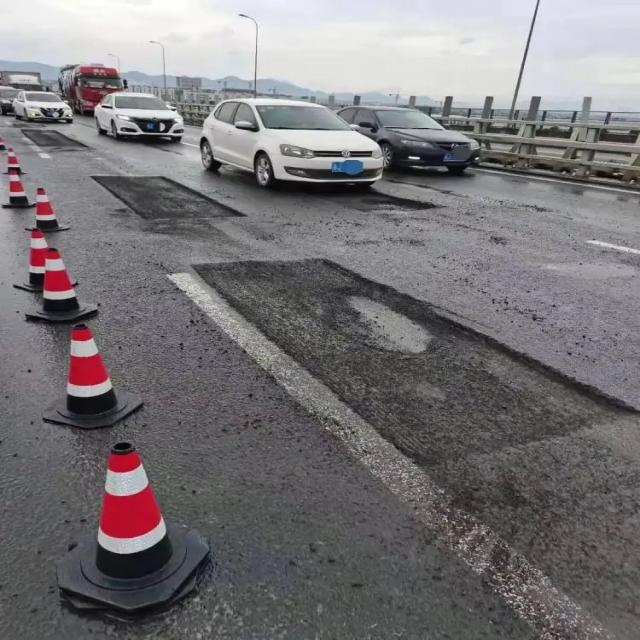Pothole: (200, 258, 615, 465), (100, 170, 225, 224), (356, 200, 444, 214)
